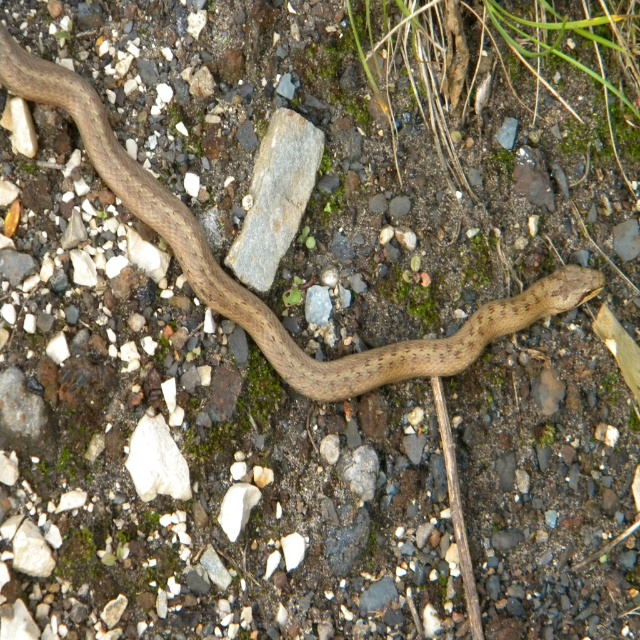Snake: (0, 12, 606, 403)
